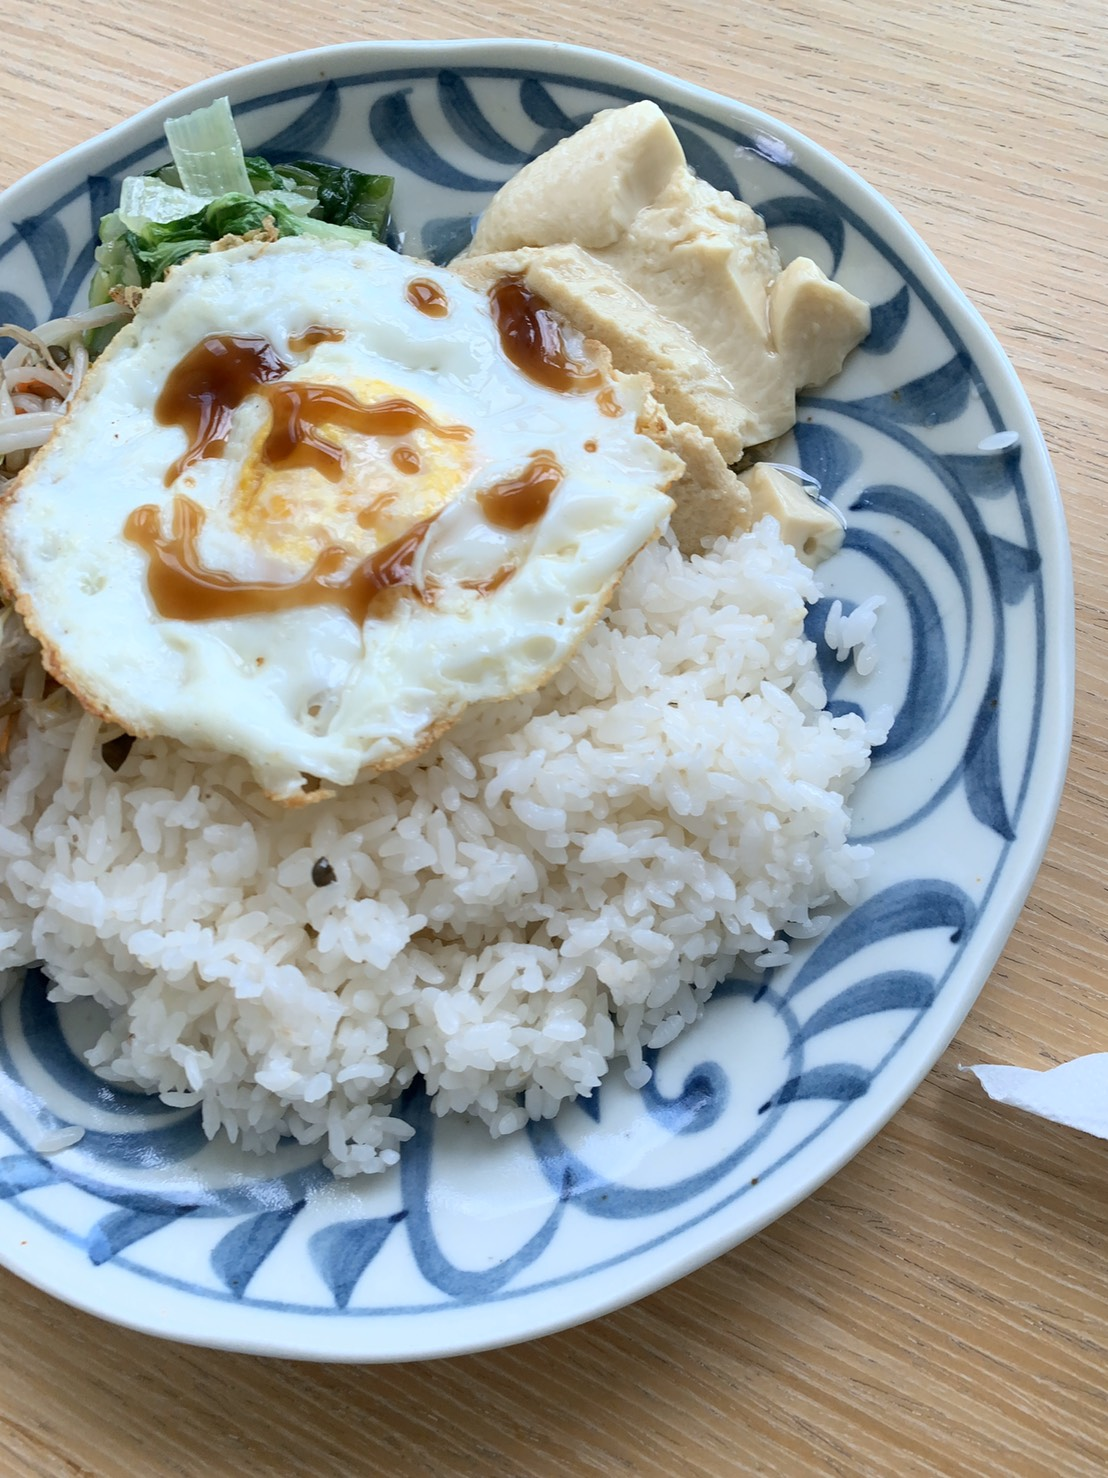fried_eggs: (1, 230, 662, 769)
rice: (61, 767, 736, 1076)
